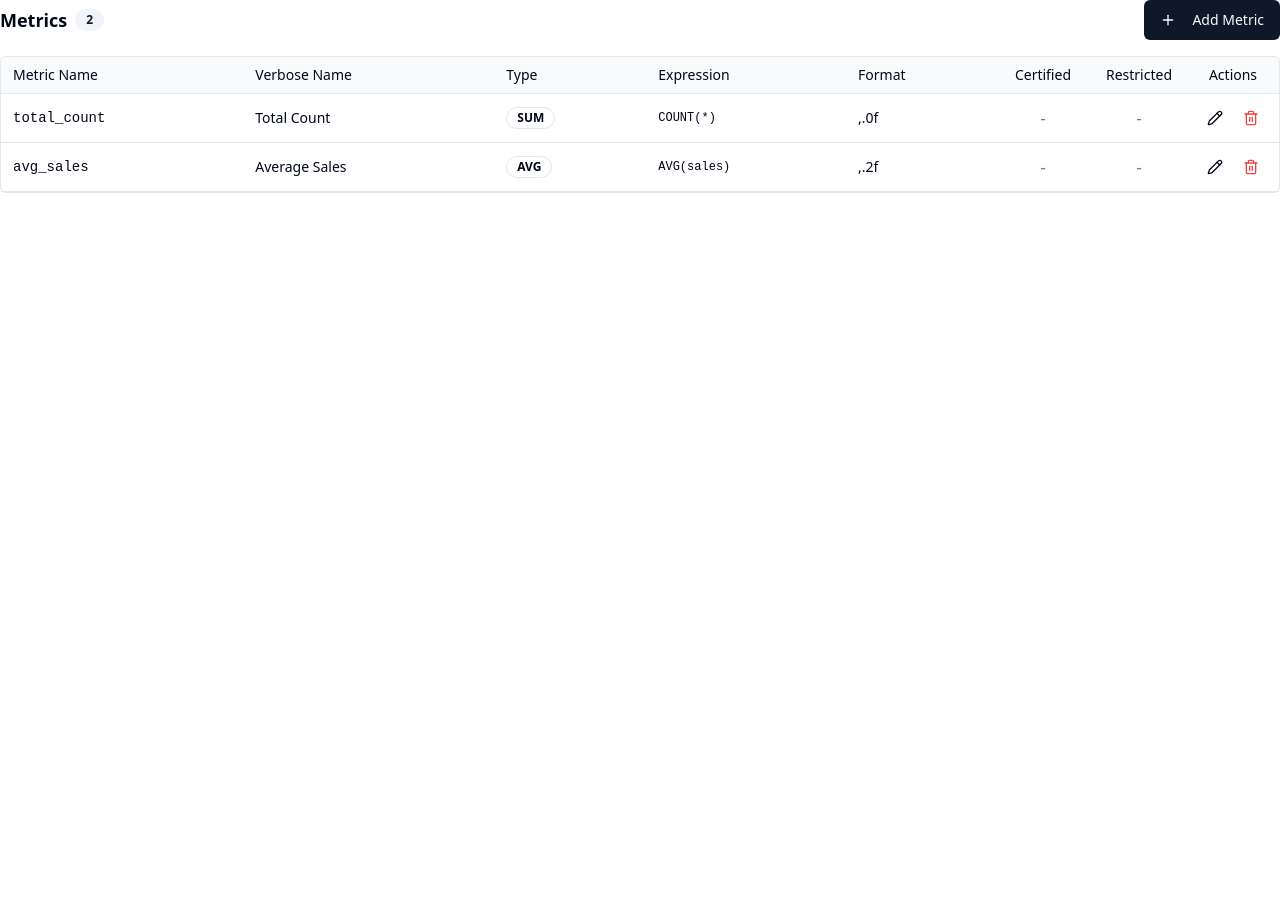
Test: MetricsTab › create metric › opens dialog when add metric button is clicked
Click the button "Add Metric". click: (1212, 20)
box: [1144, 0, 1279, 40]
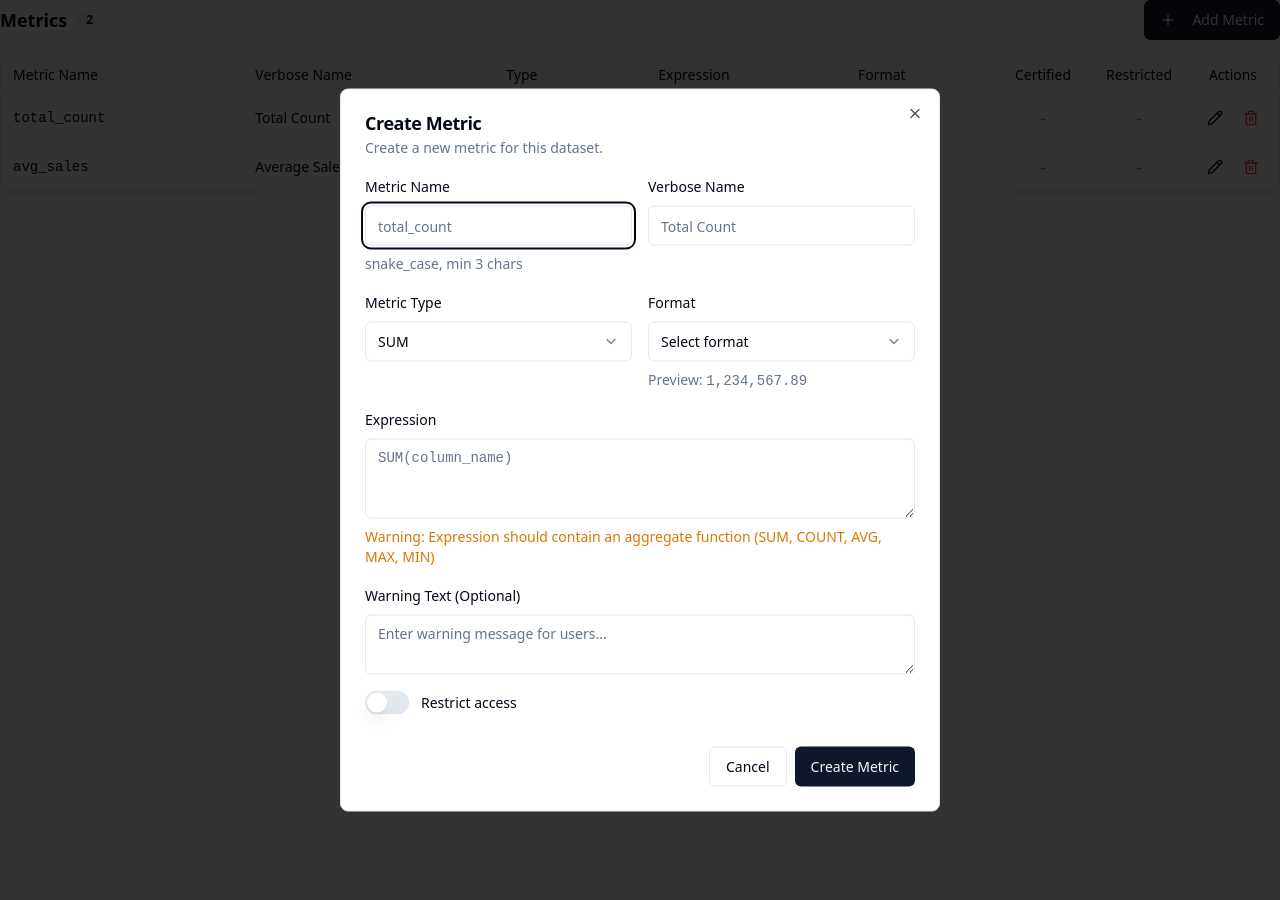
Result: the dialog is shown at [340, 88, 940, 812]
Result: the heading "Create Metric" is shown at [365, 110, 481, 134]
